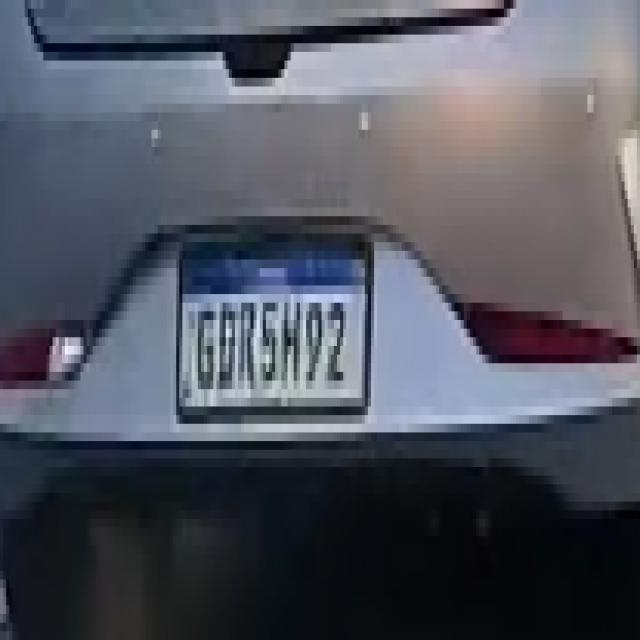Placa_mercosul_carro: (175, 235, 374, 427)
